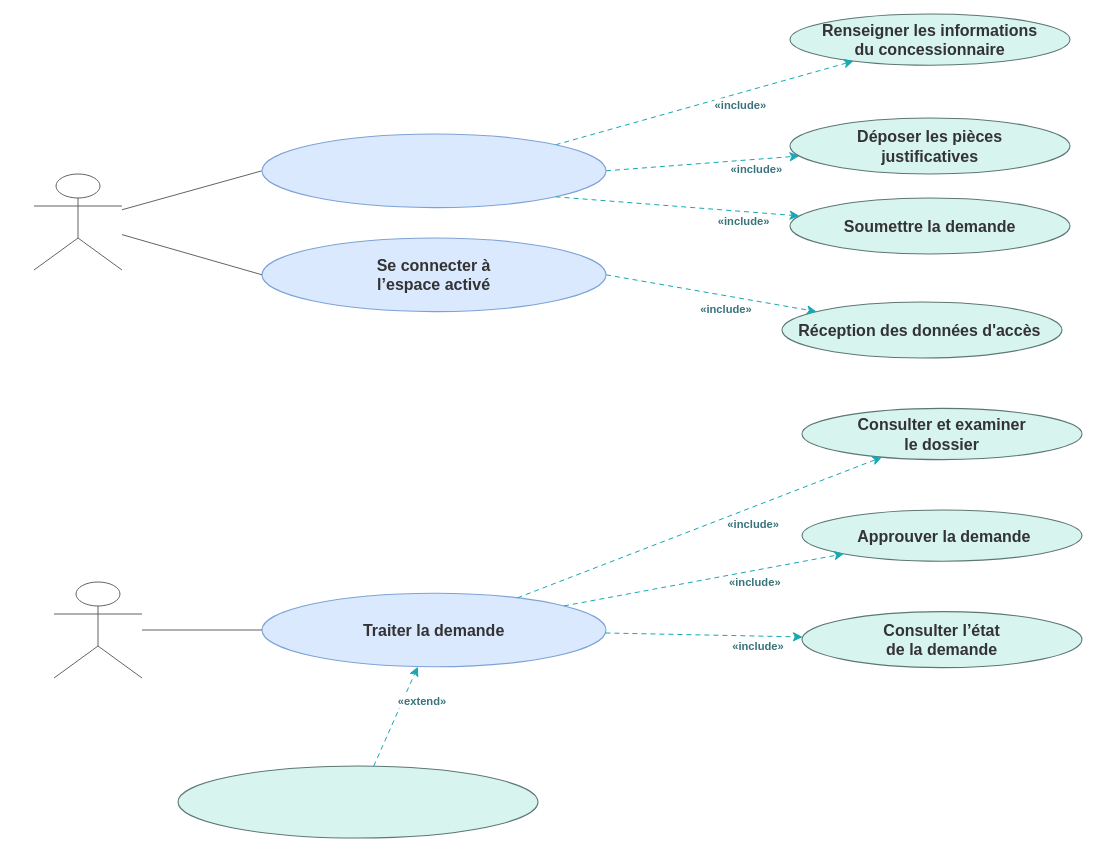
Image size: 1097x853. Some labels were removed from this diagram. The centre of each missing label's shape, as x and y in pixels:
Administrateur SaaS: (97,629)
Concessionnaire: (77,221)
Rejeter la demande et préciser le motif: (357,801)
S'inscrire: (433,170)
